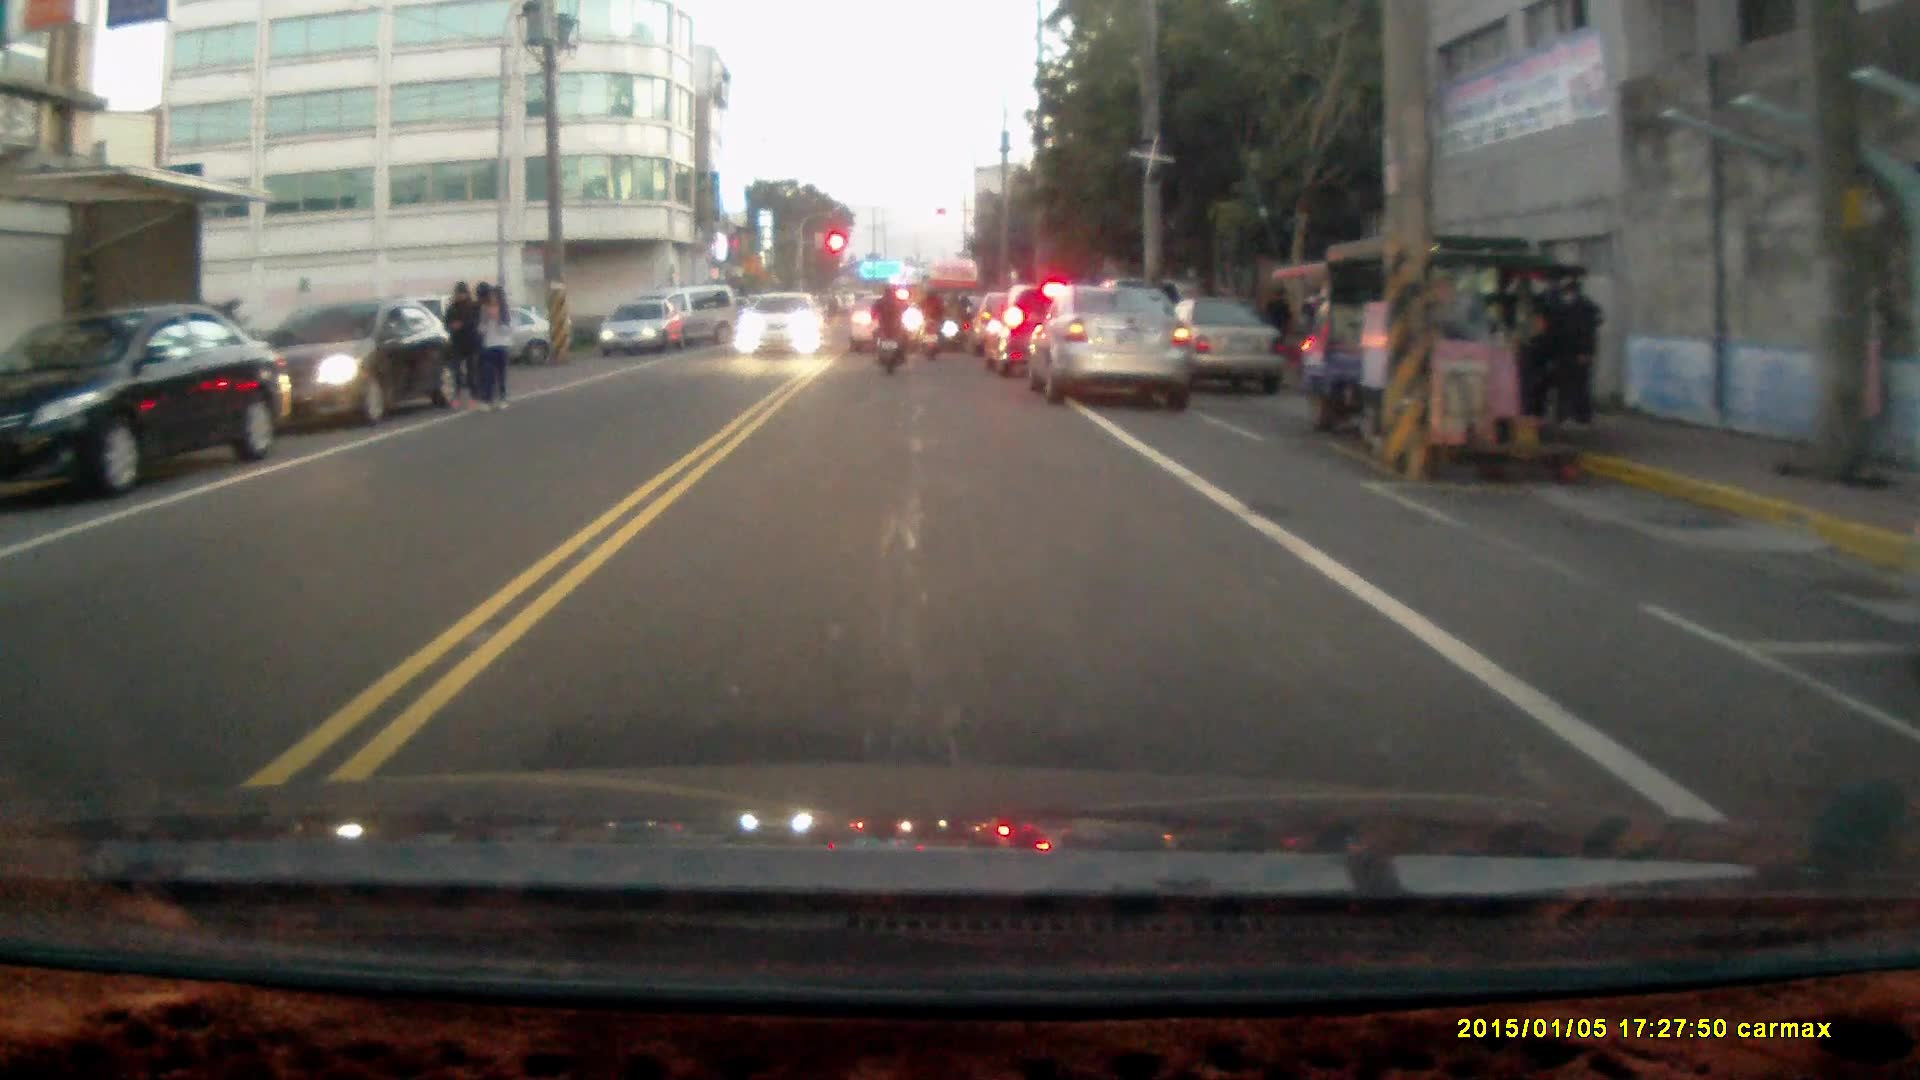pedestrian: (1548, 275, 1604, 430), (440, 278, 480, 417), (475, 285, 511, 415), (1258, 283, 1292, 356)
rider: (868, 280, 907, 373), (912, 282, 946, 362)
vehicle: (1294, 237, 1586, 461), (0, 294, 296, 502), (251, 297, 457, 435), (1031, 277, 1196, 402), (735, 292, 825, 353), (849, 295, 928, 356), (602, 301, 686, 357)
